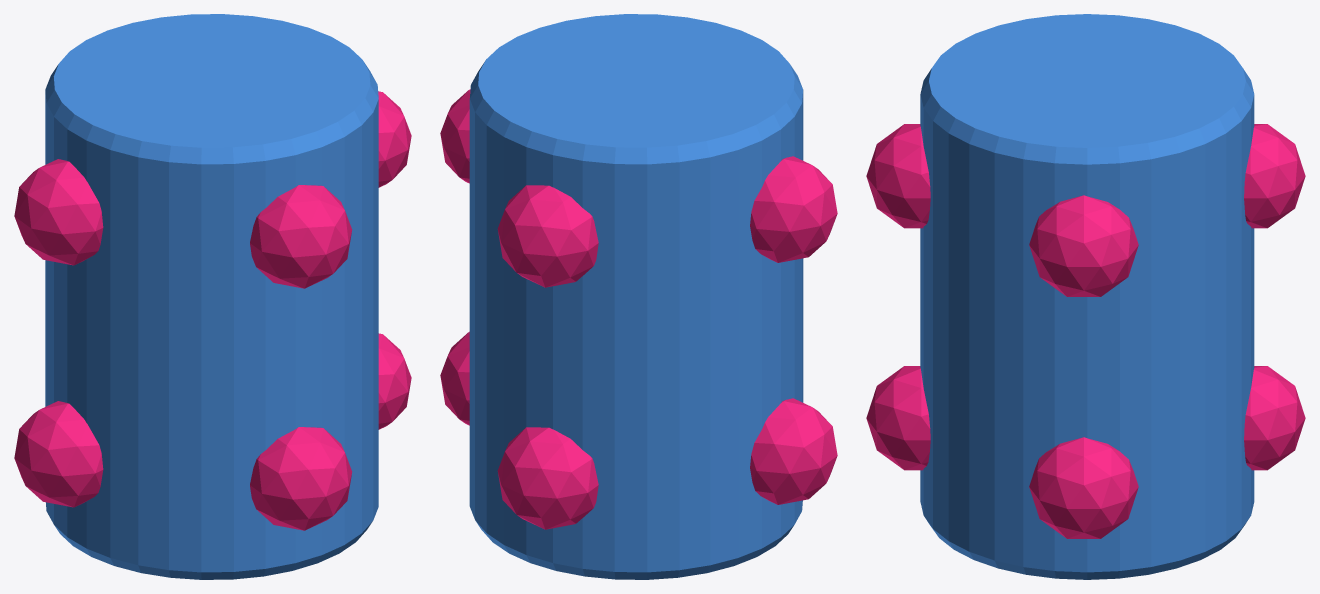
Rendered from obstracle2.fbx.
3 renders of one model, left to right at view 1: azimuth 30°, elevation 25°; view 2: azimuth 150°, elevation 25°; view 3: azimuth 270°, elevation 25°, orthographic.
Visible parts, largest first — view 1: Cylinder, kuglice; view 2: Cylinder, kuglice; view 3: Cylinder, kuglice.
Boxes of the visible parts, x1=… form: Cylinder: x1=45, y1=14, x2=378, y2=579; kuglice: x1=14, y1=91, x2=411, y2=530; Cylinder: x1=469, y1=14, x2=803, y2=579; kuglice: x1=440, y1=89, x2=837, y2=529; Cylinder: x1=920, y1=14, x2=1254, y2=579; kuglice: x1=866, y1=124, x2=1305, y2=538.
Bounding box in the file's own units: 263 × 285 × 263.
Materials: 2 (2 with a texture image).
